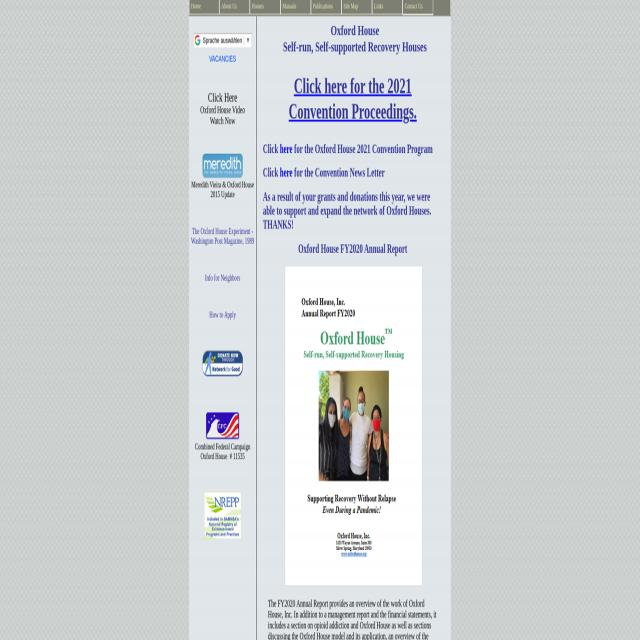button: (284, 266, 422, 586), (204, 492, 241, 539), (202, 350, 243, 376), (202, 153, 243, 178), (206, 412, 239, 440), (189, 0, 219, 14), (220, 0, 250, 14), (250, 0, 280, 14), (281, 0, 311, 14), (311, 0, 341, 14), (342, 0, 372, 14), (372, 0, 402, 14), (403, 0, 433, 14)
field: (194, 35, 252, 46)
